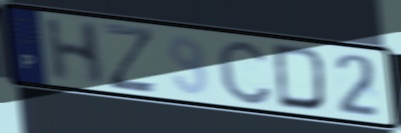2: (333, 52, 381, 118)
9: (167, 33, 210, 98)
C: (214, 37, 275, 107)
D: (271, 42, 329, 114)
H: (43, 17, 106, 88)
Z: (101, 21, 160, 96)
